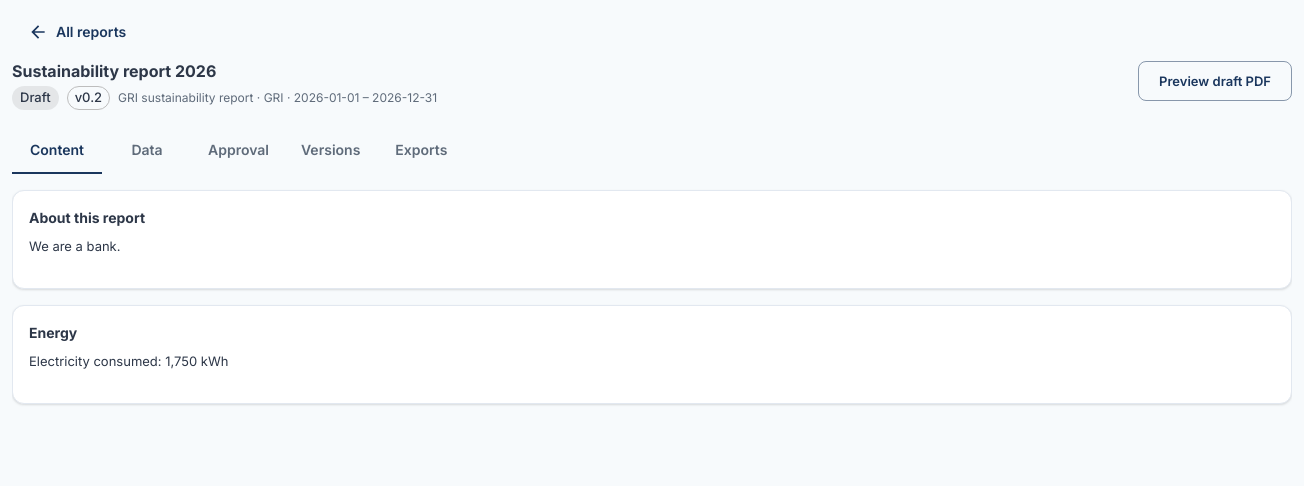
ReportingPage › a draft previews as a watermarked PDF in a new tab; the final export stays hidden until approval (Phase 3)
Click the button "Preview draft PDF": (1215, 81) top-left (1138, 60), bottom-right (1292, 101)
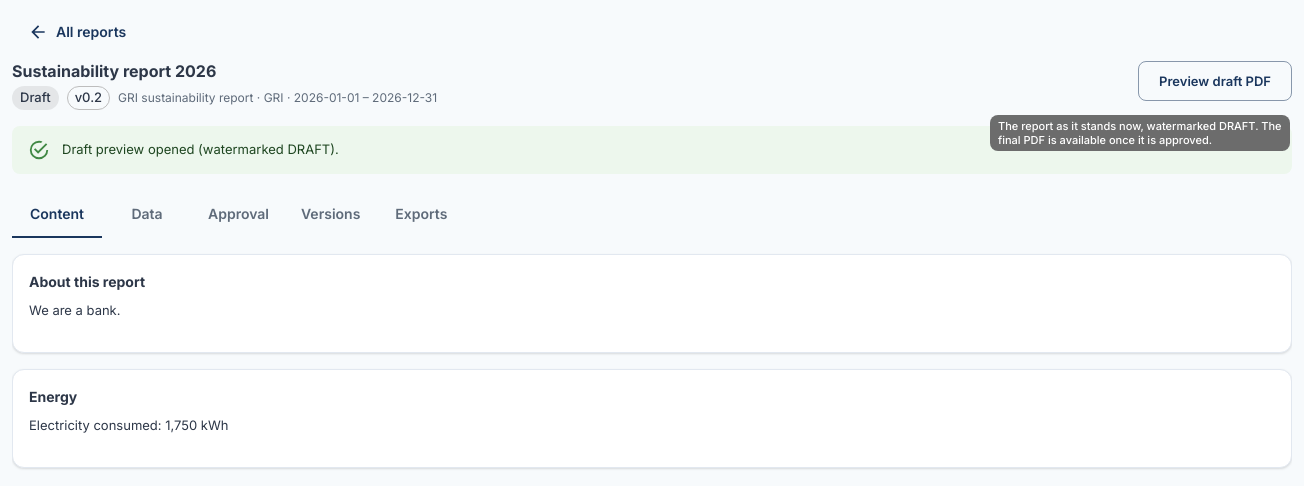
Now the text "Draft preview opened (watermarked DRAFT)." is shown, box top-left (62, 141), bottom-right (339, 157)
